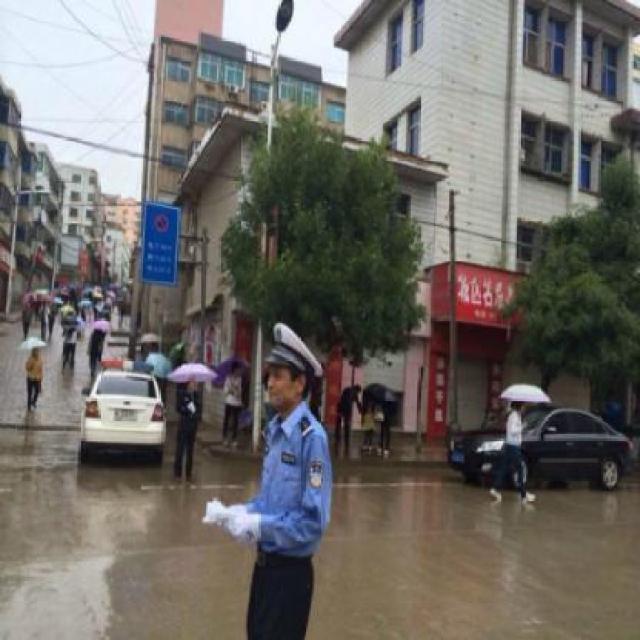face_nomask: (262, 360, 303, 412)
hand_glove: (218, 506, 252, 545)
head_nohelmet: (260, 323, 322, 377)
person: (207, 321, 341, 640), (489, 400, 537, 508), (170, 377, 201, 486), (24, 348, 44, 412)
